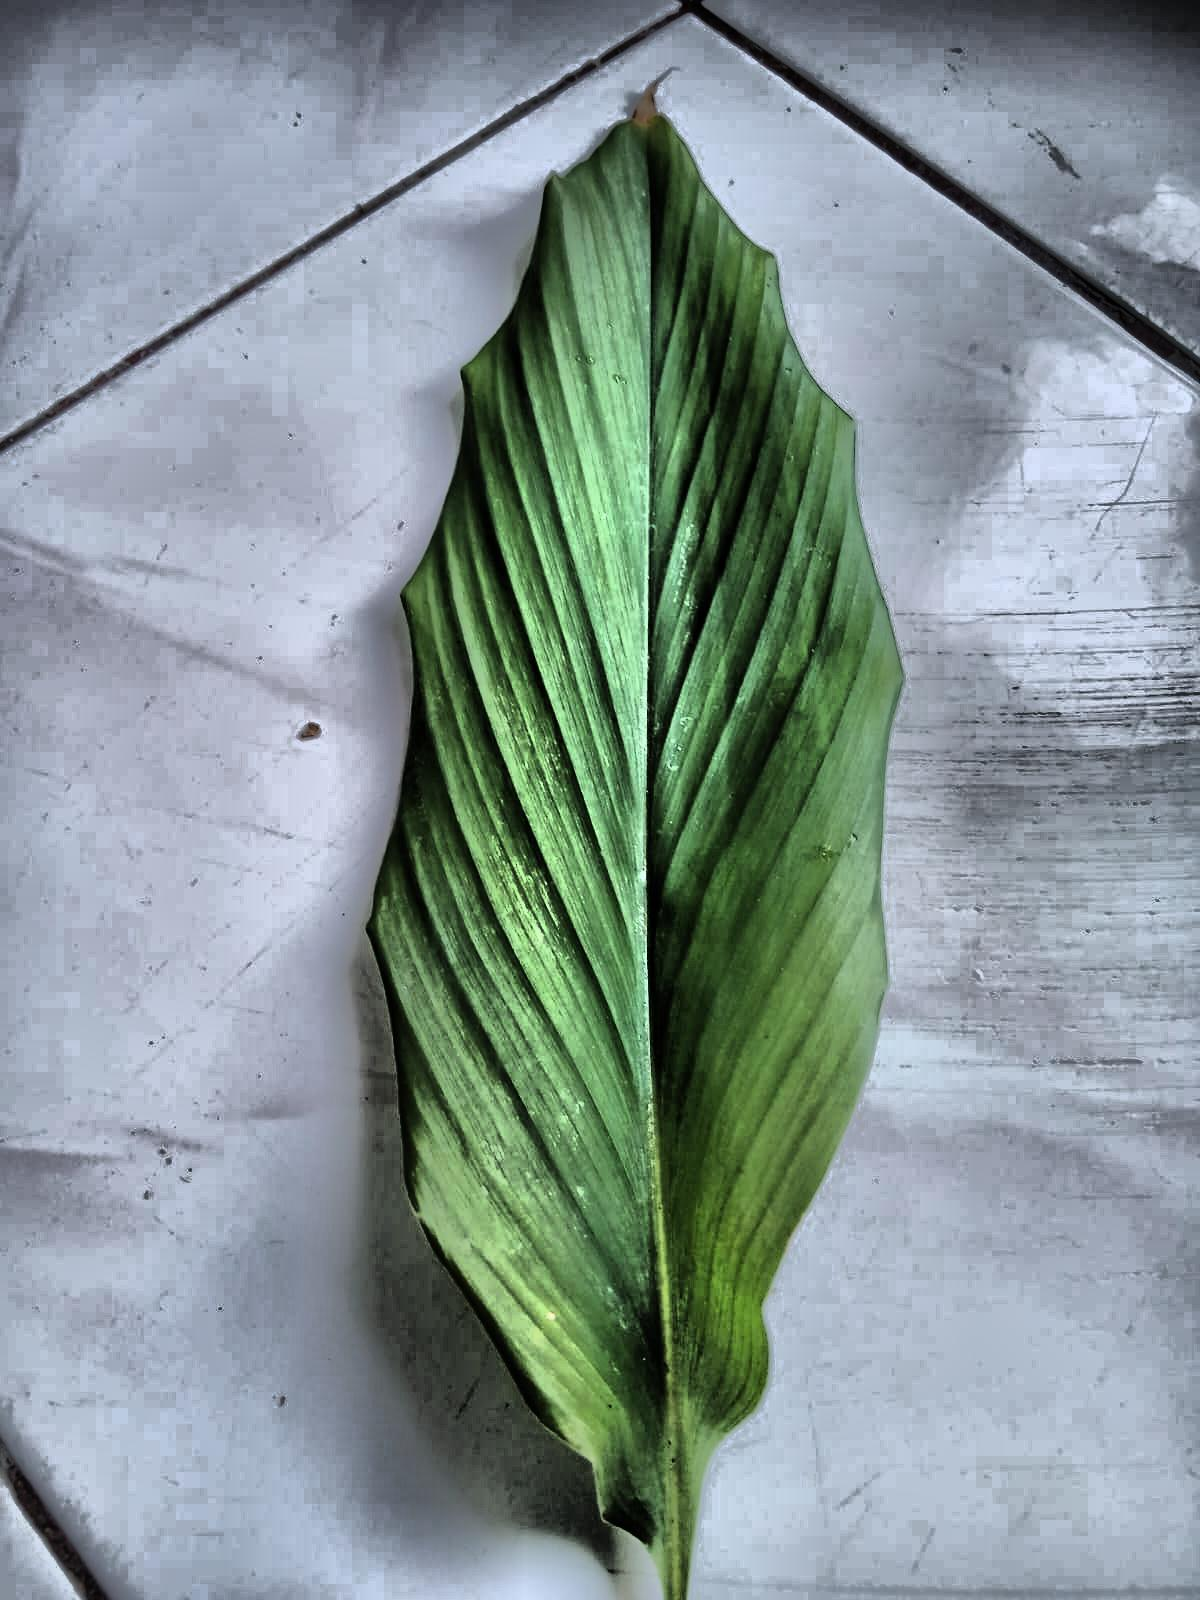daun kunyit: (369, 103, 903, 1599)
